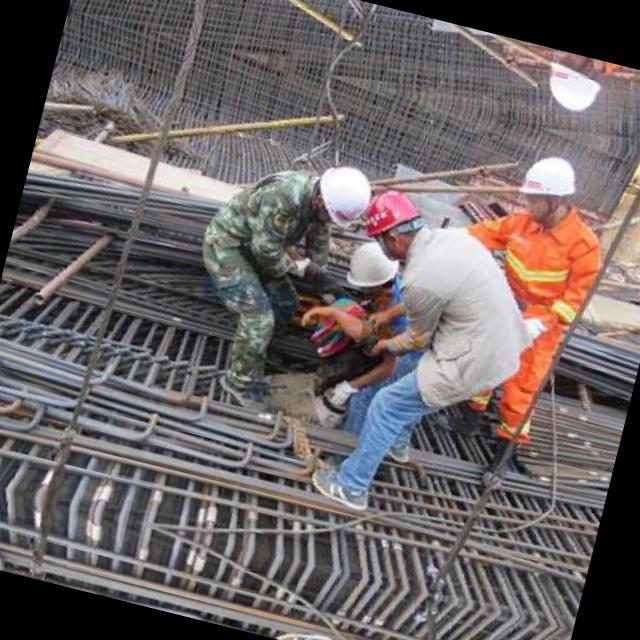helmet: (298, 152, 382, 238), (356, 180, 434, 262), (510, 144, 584, 226), (536, 48, 610, 120), (333, 232, 402, 305)
